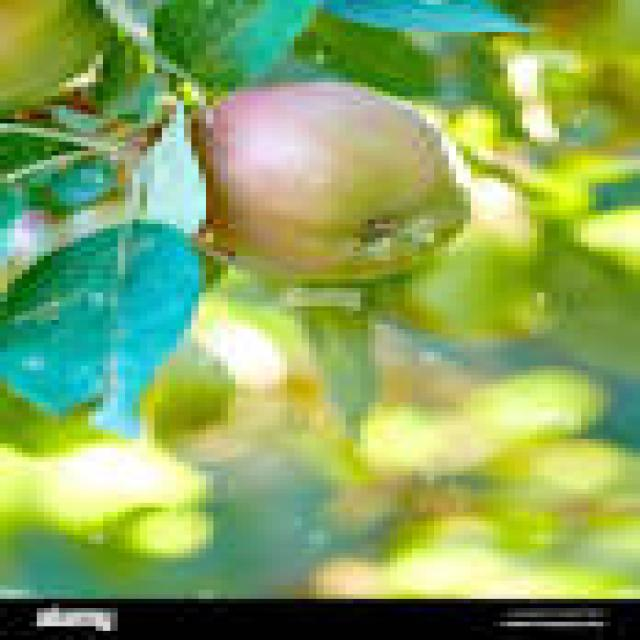apple: (191, 82, 463, 279), (397, 219, 530, 334), (537, 233, 633, 370), (0, 0, 103, 105)
